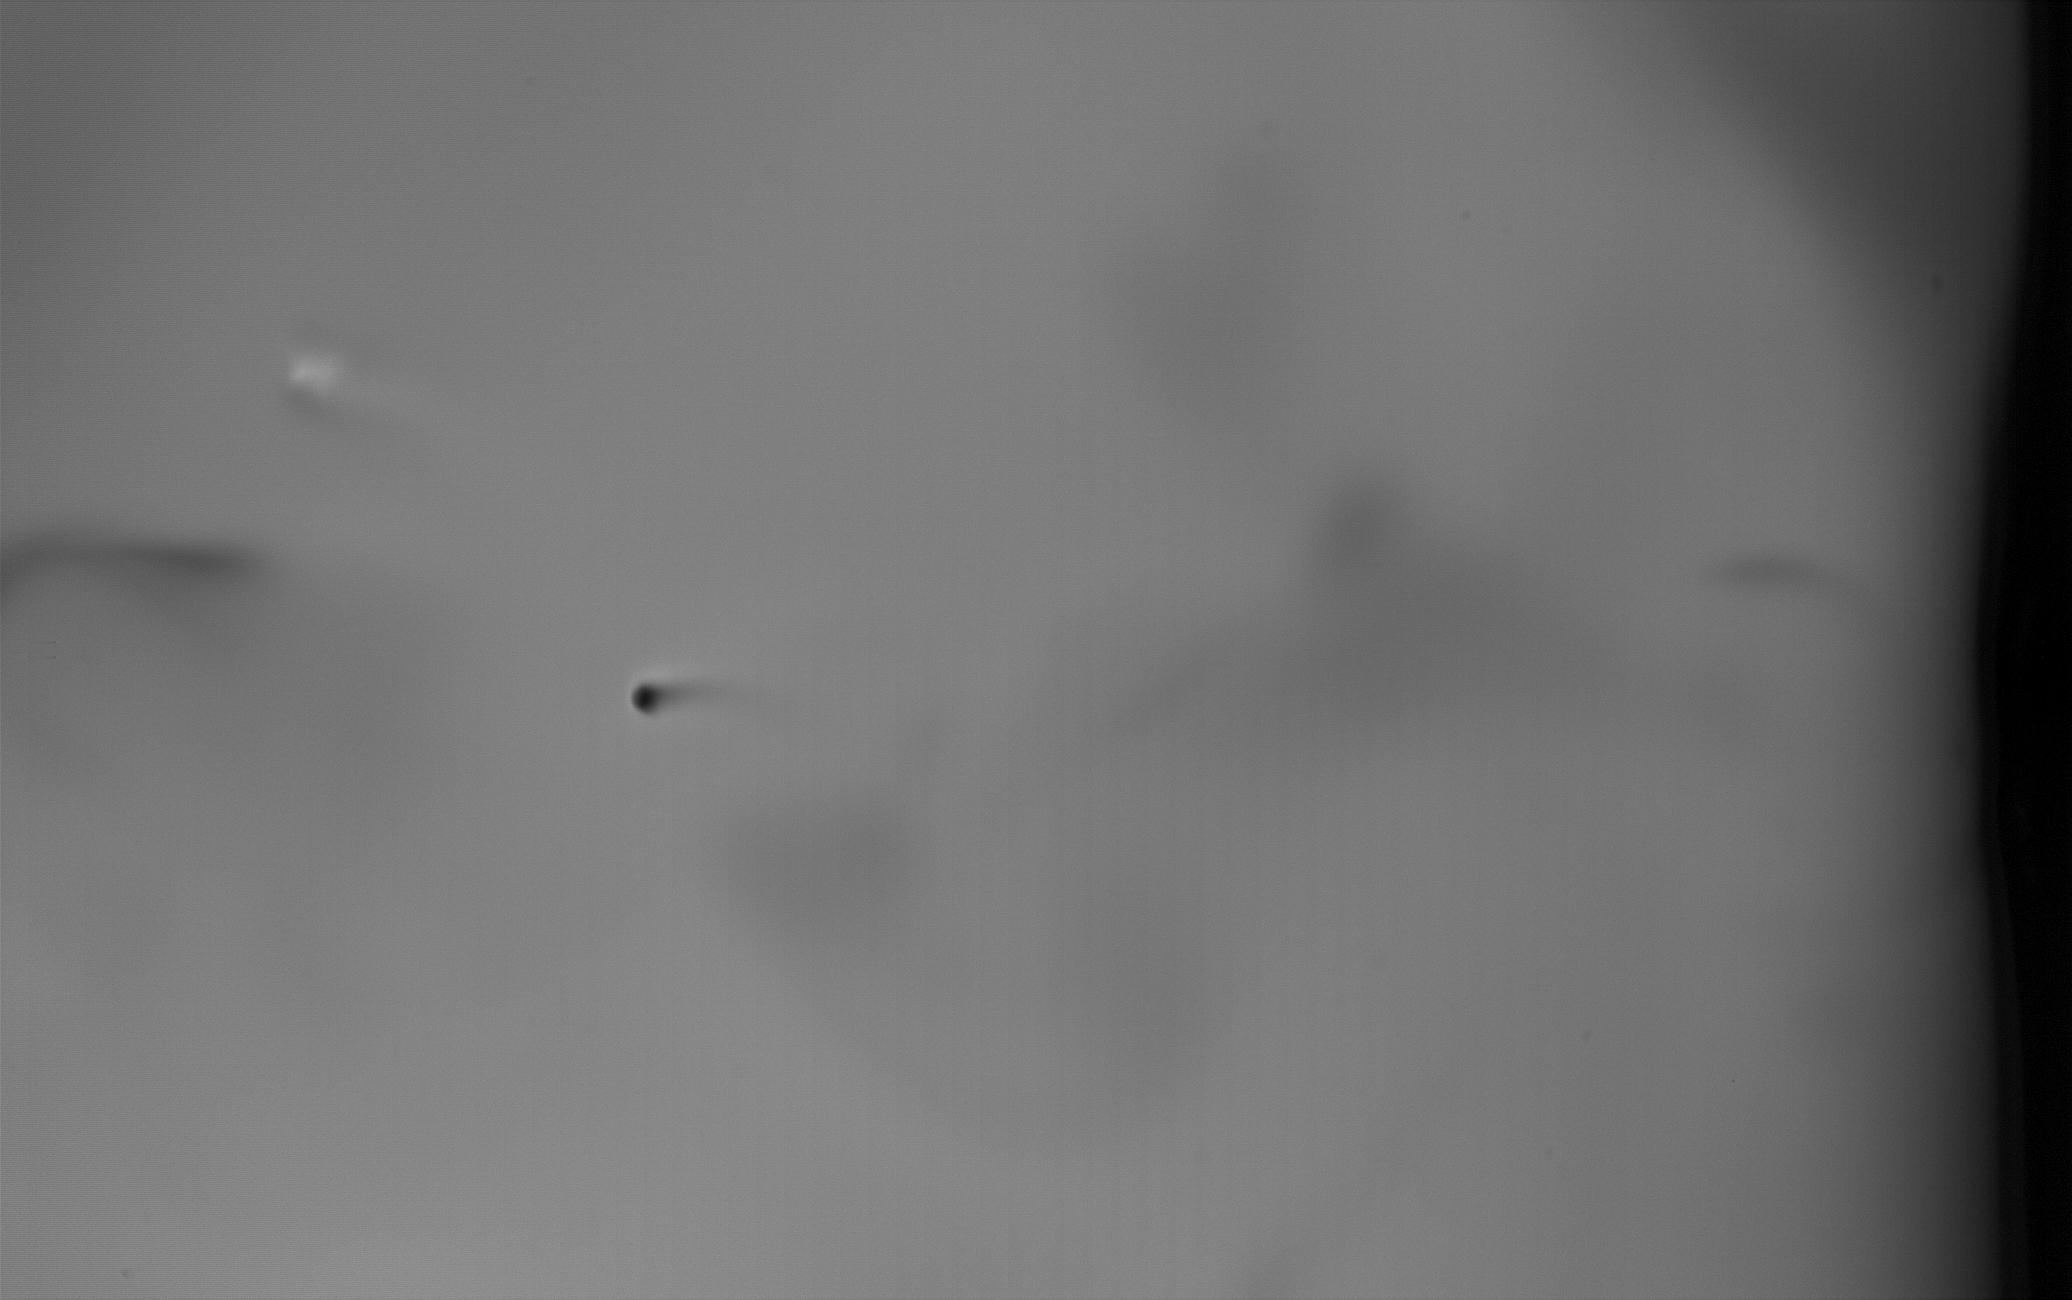ClassicalEvaporation: (627, 678, 666, 717)
